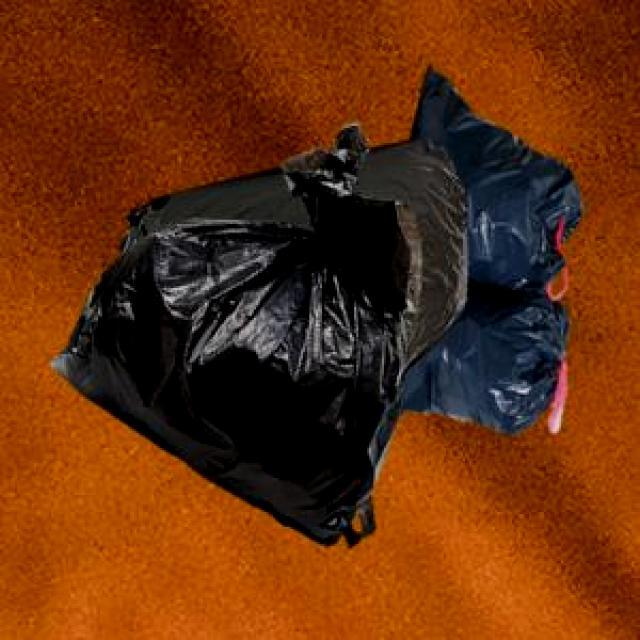Trashbag: (55, 226, 410, 560), (423, 102, 578, 311), (412, 298, 569, 428)
